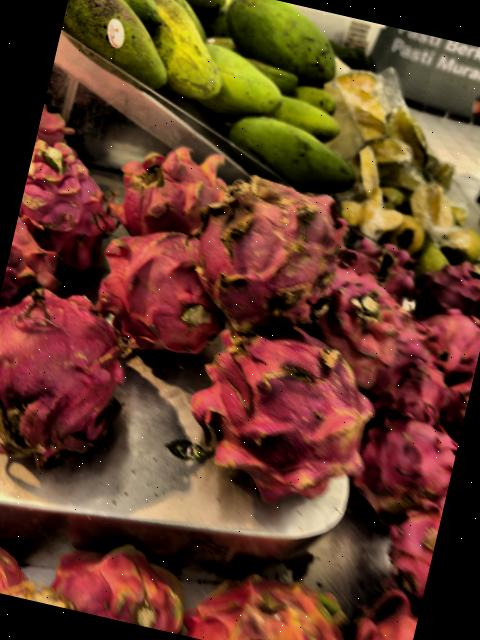buah-naga-belum-matang: (176, 555, 367, 640)
buah-naga-matang: (177, 304, 386, 503), (165, 154, 369, 348), (0, 280, 148, 479), (76, 215, 230, 354), (10, 130, 146, 276), (26, 526, 200, 636), (343, 408, 461, 538), (312, 262, 422, 385), (108, 138, 224, 236), (372, 490, 444, 600), (366, 344, 460, 428), (0, 216, 80, 308), (334, 230, 424, 298), (412, 303, 480, 381), (417, 251, 480, 312), (0, 518, 43, 596)
